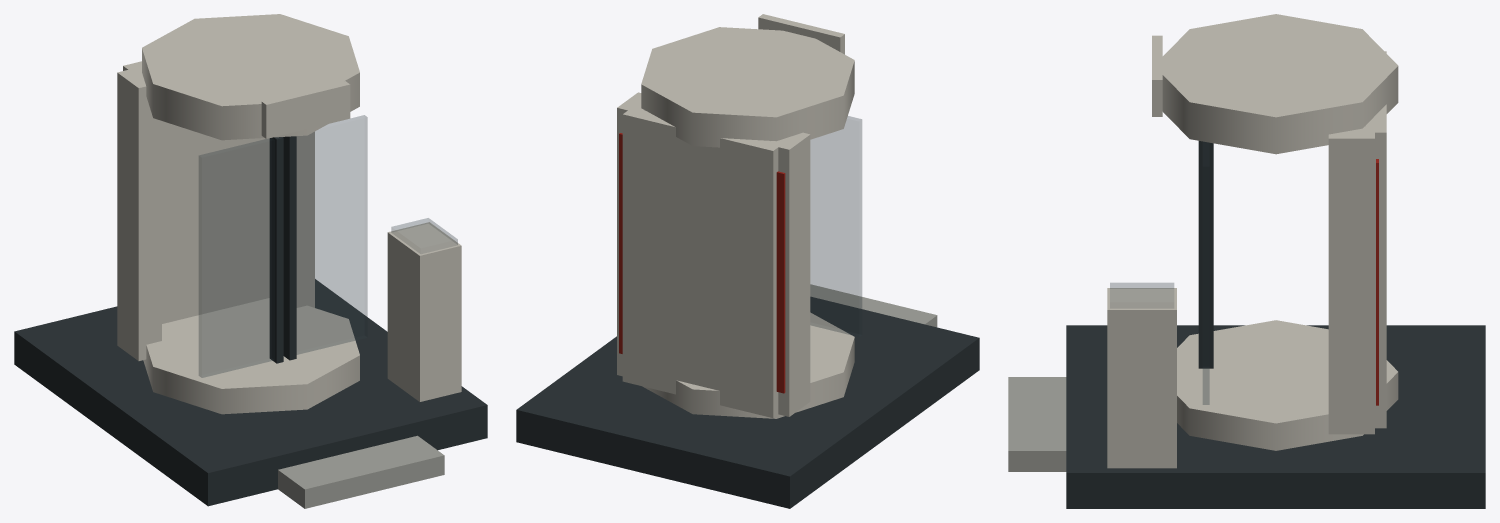
The picture shows the model from 3 angles, left to right: view 1: azimuth 30°, elevation 25°; view 2: azimuth 150°, elevation 25°; view 3: azimuth 270°, elevation 25°; orthographic projection. The views are drawn at different scales.
Visible parts, largest first — view 1: cloning-vat-painted, vat-door--1-glazing, vat-door-1-glazing, vat-door--1-painted, vat-door-1-painted, cloning-vat-glazing; view 2: cloning-vat-painted, vat-door--1-glazing; view 3: cloning-vat-painted, vat-door-1-painted, vat-door-1-glazing, cloning-vat-glazing.
Boxes of the visible parts, <box> form: cloning-vat-painted: <box>14,14,487,508</box>; vat-door--1-glazing: <box>199,138,274,377</box>; vat-door-1-glazing: <box>297,115,367,354</box>; vat-door--1-painted: <box>269,137,283,363</box>; vat-door-1-painted: <box>283,136,296,360</box>; cloning-vat-glazing: <box>391,218,457,253</box>; cloning-vat-painted: <box>516,14,979,508</box>; vat-door--1-glazing: <box>810,116,861,336</box>; cloning-vat-painted: <box>1008,14,1485,508</box>; vat-door-1-painted: <box>1198,141,1213,368</box>; vat-door-1-glazing: <box>1203,142,1209,404</box>; cloning-vat-glazing: <box>1110,283,1173,307</box>.
Size of the model in its own units: 15.79 by 18.82 by 21.58.
